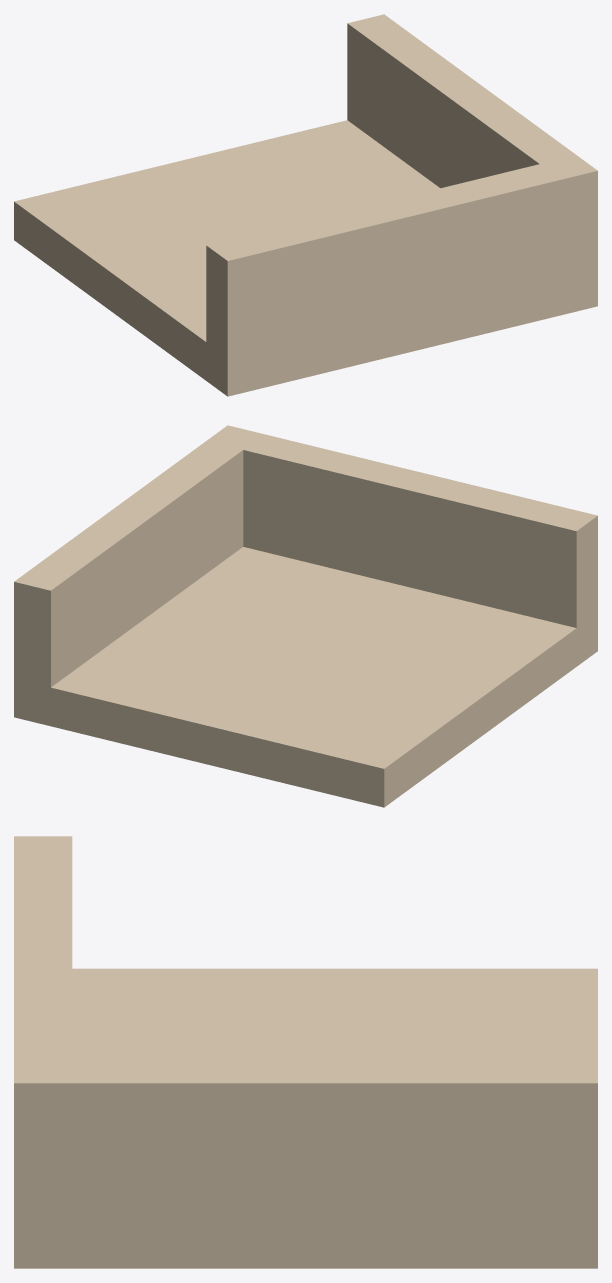
File: CreamRoof_Corner_Small.glb
The picture shows the model from 3 angles, top to bottom: view 1: azimuth 30°, elevation 25°; view 2: azimuth 150°, elevation 25°; view 3: azimuth 270°, elevation 25°; orthographic projection. The views are drawn at different scales.
Visible parts, largest first — view 1: roof_flat_corner_small_cream; view 2: roof_flat_corner_small_cream; view 3: roof_flat_corner_small_cream.
Part boxes in pixels (x1,y1,x2,y2): roof_flat_corner_small_cream: [14, 14, 597, 396]; roof_flat_corner_small_cream: [14, 425, 597, 807]; roof_flat_corner_small_cream: [14, 836, 597, 1268].
Size of what is drawn, in the model's own units: 2 by 0.7 by 2.
Materials: 1 (1 with a texture image).
